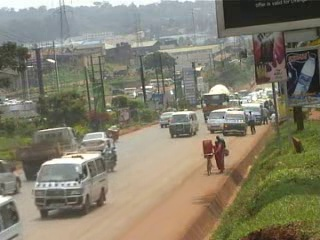Car: (0, 157, 25, 197), (80, 129, 112, 153), (156, 109, 175, 130)
Motorcycle: (100, 143, 118, 174), (106, 120, 122, 141)
